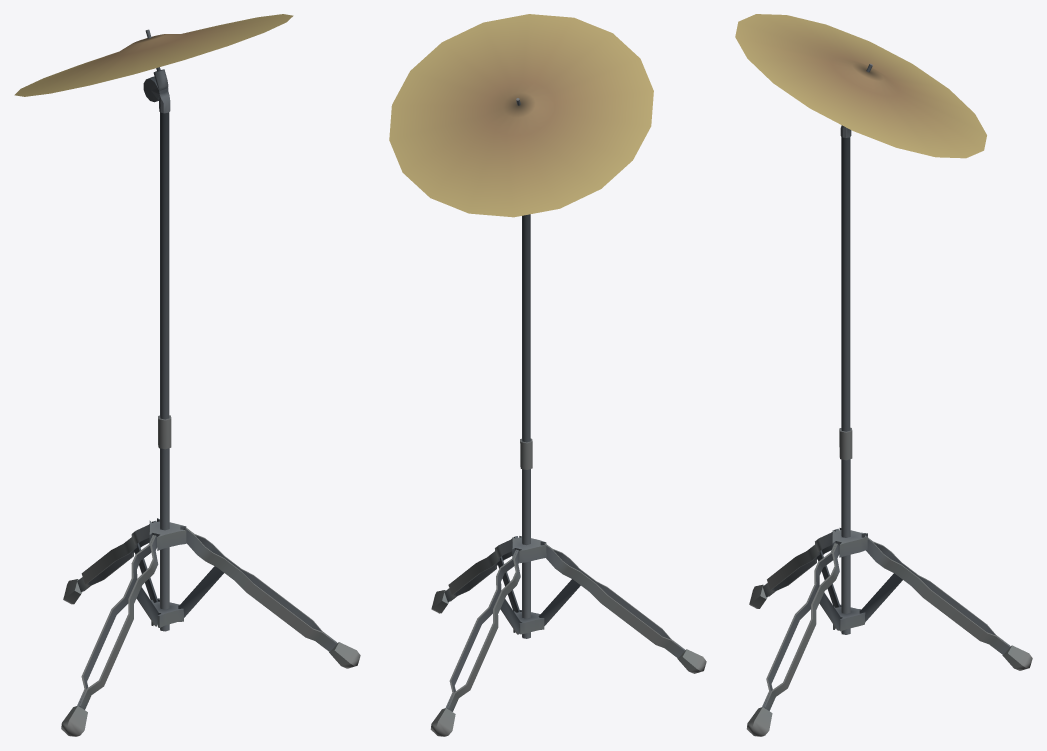
The model's file is human-music-cymbal_v1.glb.
3 views of the same model, side by side, from view 1: azimuth 30°, elevation 25°; view 2: azimuth 150°, elevation 25°; view 3: azimuth 270°, elevation 25° (orthographic). The views are drawn at different scales.
Parts seen in each view (by area): view 1: Cymbal_v1; view 2: Cymbal_v1; view 3: Cymbal_v1.
Part boxes in pixels (x1,y1,x2,y2): Cymbal_v1: (14, 14, 360, 736); Cymbal_v1: (389, 14, 706, 736); Cymbal_v1: (735, 14, 1032, 736).
Size of the model in its own units: 0.5539 by 1.2 by 0.5073.
